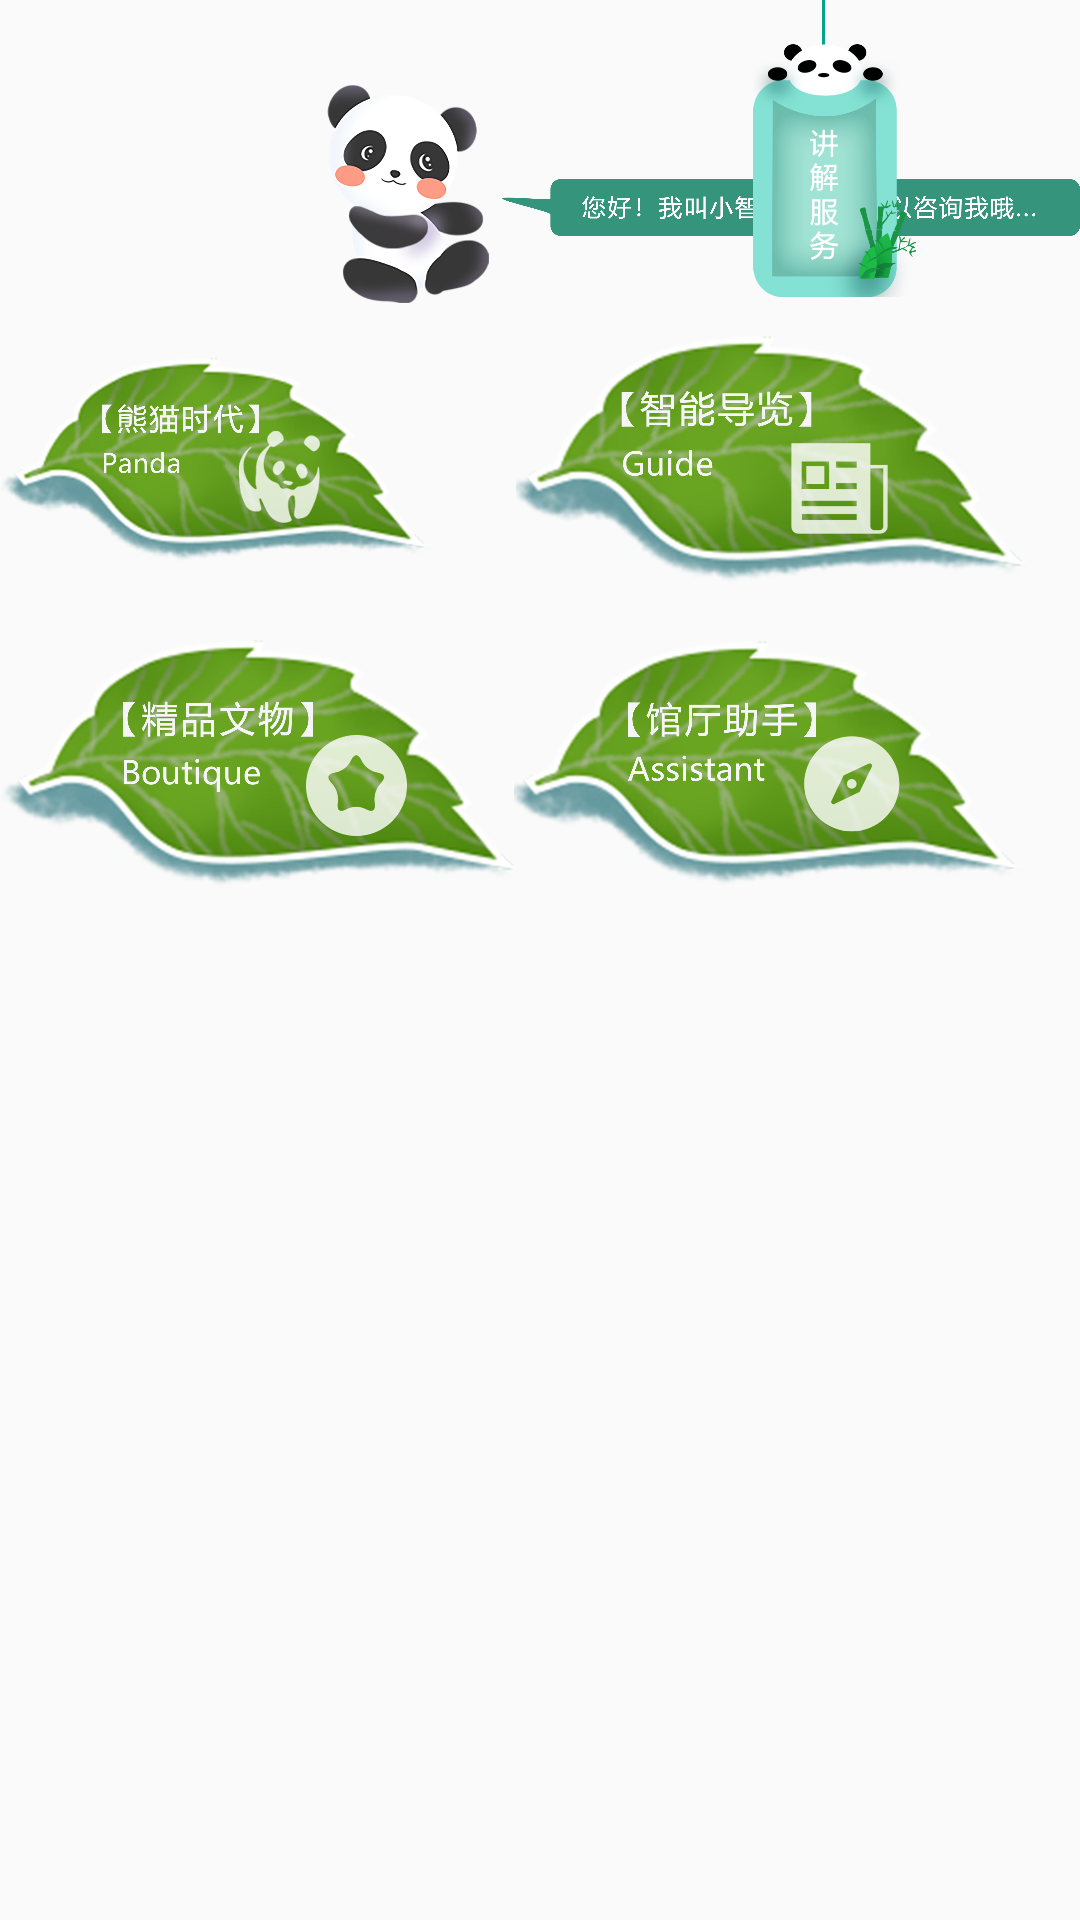

Screen size 1080×1920. Icon name, then its box in pixels as rect(x1, y1, x2, y2):
panda: rect(327, 85, 489, 303)
